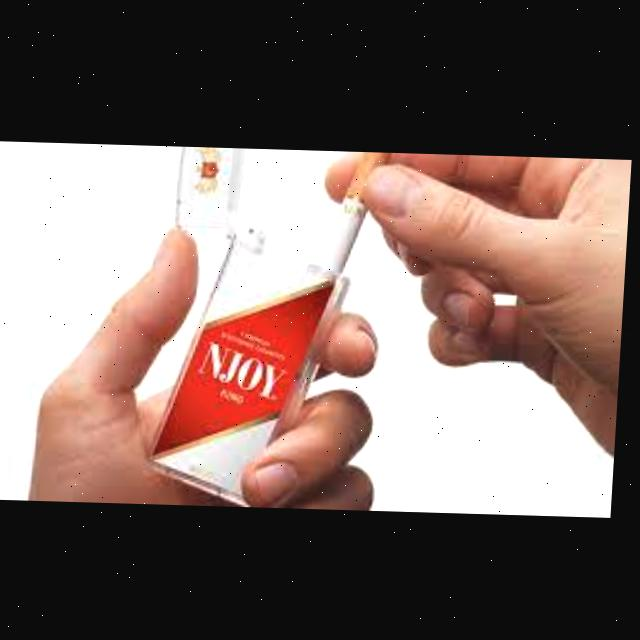cigarette: (320, 150, 394, 272)
